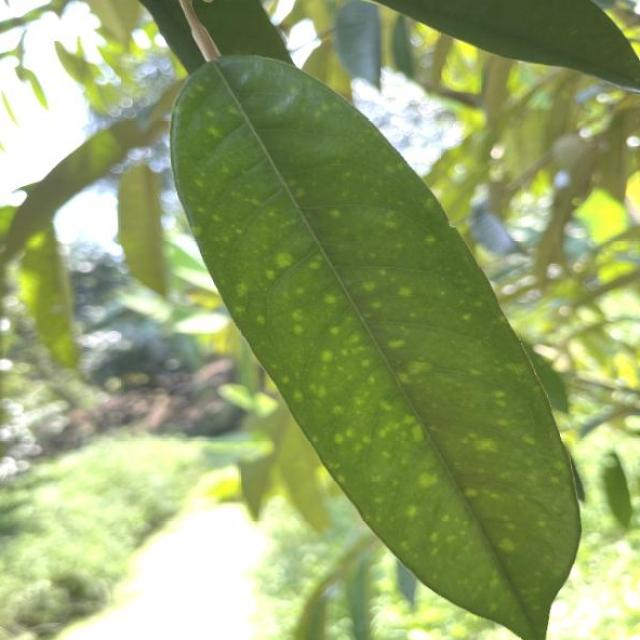Leaf Spot: (155, 35, 594, 640)
